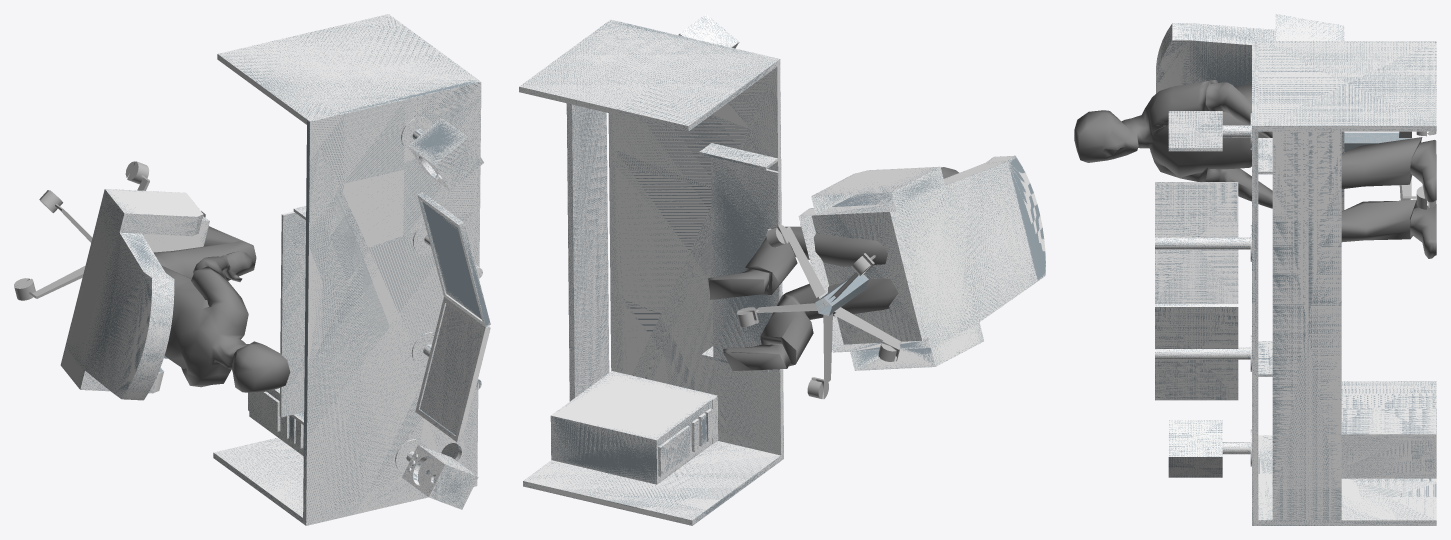
File: VRlab-workstation.fbx
3 renders of one model, left to right at view 1: azimuth 30°, elevation 25°; view 2: azimuth 150°, elevation 25°; view 3: azimuth 270°, elevation 25°, orthographic.
Parts seen in each view (by area): view 1: Group15, Group14, Group25, Group23, Group16, Group20, Group6, Group3, Group12, Caster4, Group24, Group7; view 2: Group15, Group14, Group8, Group25, Group16, Caster2, Group18, Group12, Caster4, Group6, Caster5, Caster1; view 3: Group15, Group25, Group8, Group20, Group14, Group23, Group3, Group6, Group21, Group24, Group18, Group17 (+2 smaller).
Boxes of the visible parts, left/top/right/bottom form: Group15: left=213, top=14, right=481, bottom=525; Group14: left=60, top=189, right=209, bottom=400; Group25: left=153, top=211, right=290, bottom=392; Group23: left=415, top=297, right=490, bottom=442; Group16: left=279, top=211, right=305, bottom=417; Group20: left=417, top=192, right=490, bottom=327; Group6: left=408, top=118, right=483, bottom=190; Group3: left=402, top=445, right=478, bottom=509; Group12: left=248, top=391, right=280, bottom=431; Caster4: left=14, top=265, right=85, bottom=300; Group24: left=411, top=332, right=481, bottom=390; Group7: left=401, top=117, right=432, bottom=151; Group15: left=519, top=19, right=783, bottom=525; Group14: left=798, top=155, right=1045, bottom=370; Group8: left=550, top=371, right=718, bottom=484; Group25: left=708, top=167, right=958, bottom=370; Group16: left=711, top=157, right=781, bottom=372; Caster2: left=766, top=225, right=825, bottom=297; Group18: left=699, top=143, right=777, bottom=169; Group12: left=658, top=425, right=690, bottom=476; Caster4: left=833, top=307, right=901, bottom=361; Group6: left=678, top=14, right=739, bottom=48; Caster5: left=807, top=313, right=832, bottom=399; Caster1: left=737, top=302, right=824, bottom=326; Group15: left=1252, top=41, right=1436, bottom=525; Group25: left=1074, top=80, right=1436, bottom=258; Group8: left=1341, top=381, right=1436, bottom=478; Group20: left=1155, top=182, right=1238, bottom=303; Group14: left=1156, top=14, right=1411, bottom=210; Group23: left=1155, top=304, right=1238, bottom=400; Group3: left=1168, top=420, right=1222, bottom=477; Group6: left=1168, top=111, right=1222, bottom=151; Group21: left=1155, top=225, right=1251, bottom=261; Group24: left=1155, top=335, right=1251, bottom=371; Group18: left=1258, top=138, right=1272, bottom=174; Group17: left=1258, top=341, right=1272, bottom=376.
Size of the model in its own units: 74.71 by 72.33 by 58.88.
